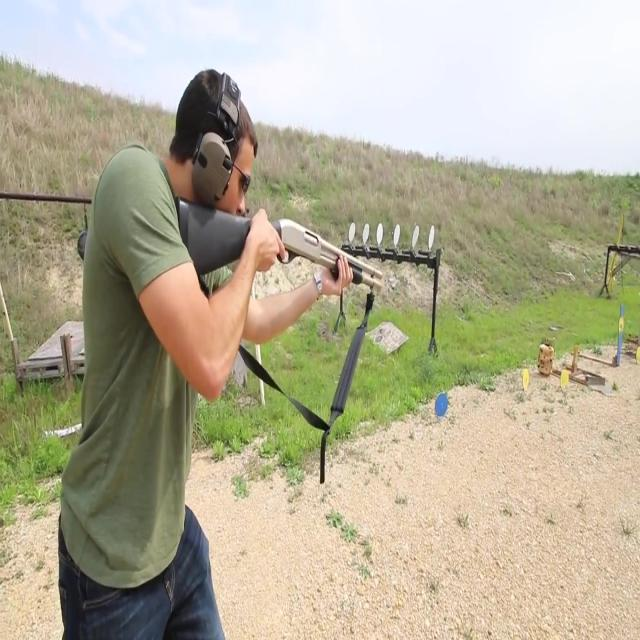Weapon: (153, 173, 408, 410)
